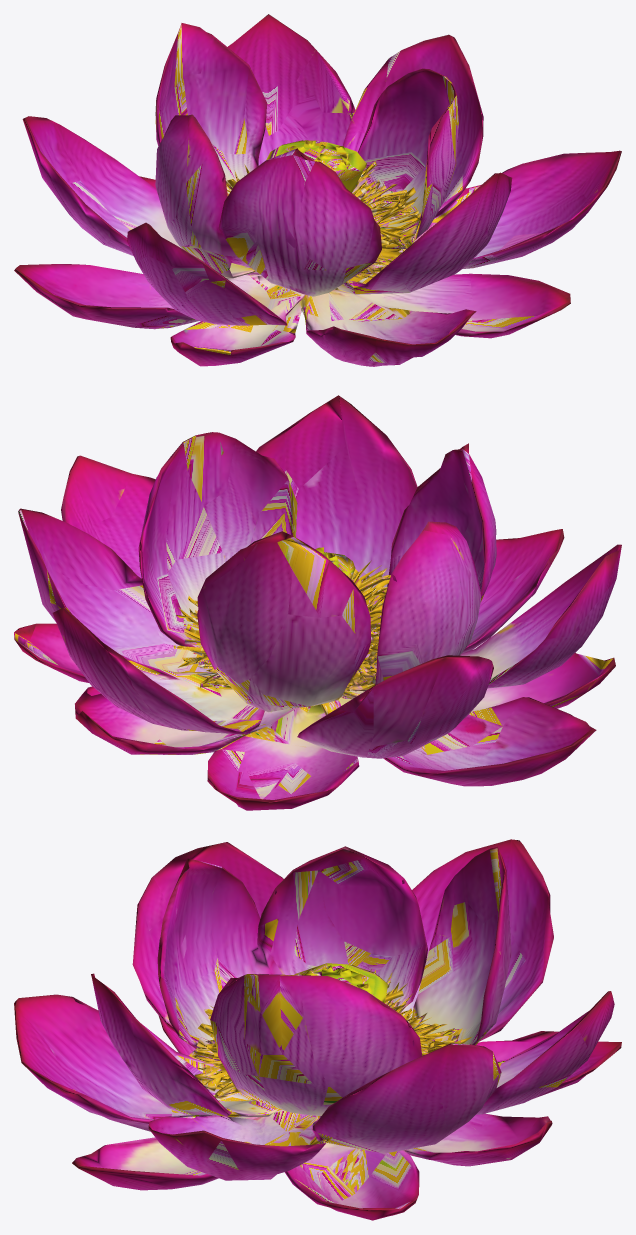
Rendered from hoa sen.glb.
3 views of the same model, one above another, from view 1: azimuth 30°, elevation 25°; view 2: azimuth 150°, elevation 25°; view 3: azimuth 270°, elevation 25° (orthographic). The views are drawn at different scales.
Size of the model in its own units: 1.9 by 0.8178 by 1.73.
Materials: 1 (1 with a texture image).
